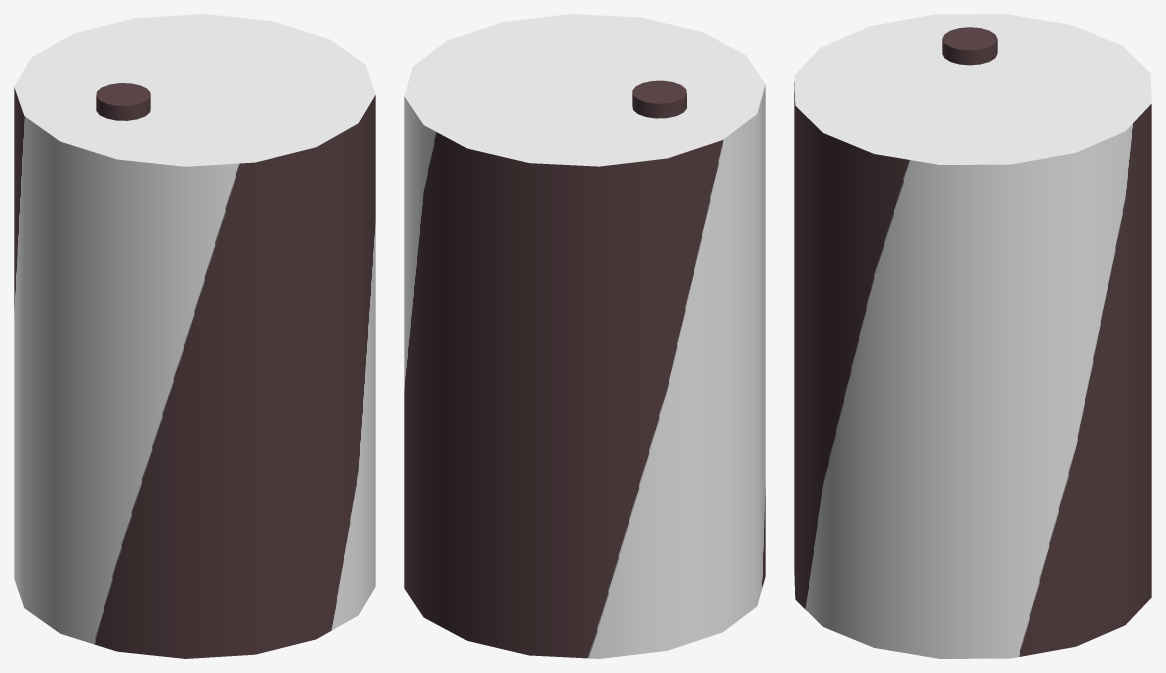
Rendered from lata.obj.
3 renders of one model, left to right at view 1: azimuth 30°, elevation 25°; view 2: azimuth 150°, elevation 25°; view 3: azimuth 270°, elevation 25°, orthographic.
Parts seen in each view (by area): view 1: lata:pCylinder135groupgroupgroup6 group1, group1 lata:pCylinder136group1; view 2: lata:pCylinder135groupgroupgroup6 group1, group1 lata:pCylinder136group1; view 3: lata:pCylinder135groupgroupgroup6 group1, group1 lata:pCylinder136group1.
Boxes of the visible parts, x1,y1,x2,y2 form: lata:pCylinder135groupgroupgroup6 group1: [14, 14, 375, 658]; group1 lata:pCylinder136group1: [96, 83, 150, 120]; lata:pCylinder135groupgroupgroup6 group1: [404, 14, 765, 658]; group1 lata:pCylinder136group1: [632, 80, 686, 118]; lata:pCylinder135groupgroupgroup6 group1: [794, 14, 1151, 658]; group1 lata:pCylinder136group1: [942, 27, 997, 65].
Bounding box in the file's own units: 0.5547 × 0.8714 × 0.5547.
Materials: 1 (1 with a texture image).
